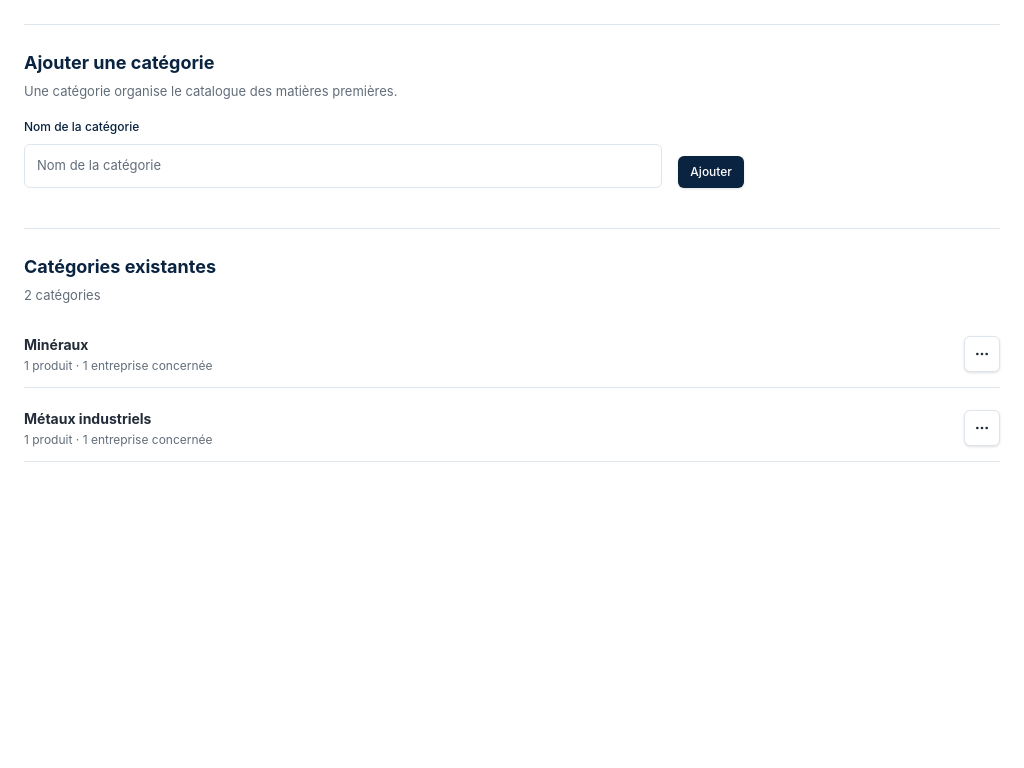
it: Écran Catégories › refuse de supprimer une catégorie encore utilisée par des produits
The image size is (1024, 768).
Click the button named "Actions pour Minéraux".
click(982, 354)  # box [964,336,1000,372]
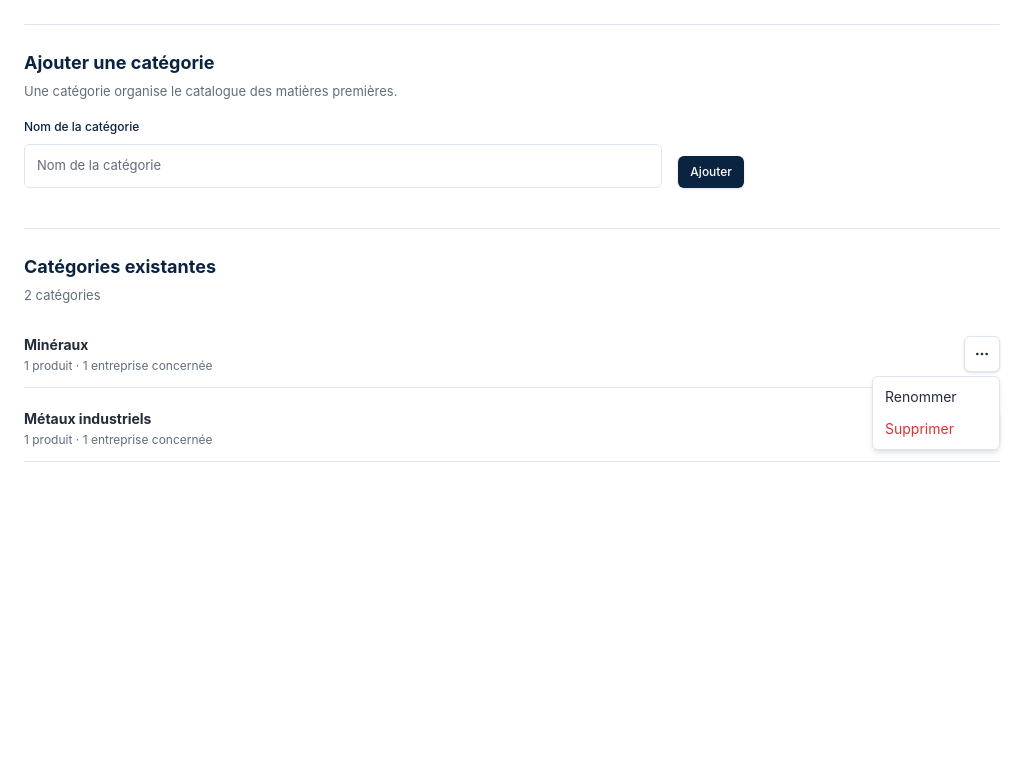
Click the menu item "Supprimer".
click(919, 428)  # box [885,420,954,437]
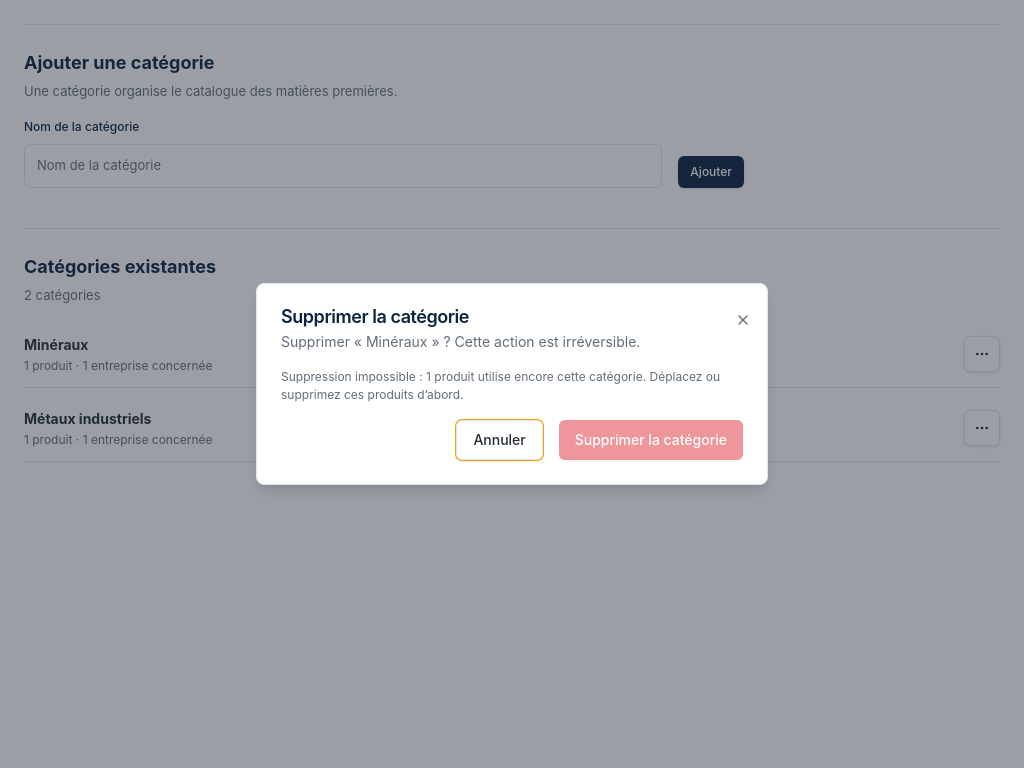
Now the text "Suppression impossible" is shown, box [281,369,426,384]
Now the text "1 produit utilise encore cette catégorie" is shown, box [281,368,743,404]
Now the button "Supprimer la catégorie" is disabled, box [559,420,743,460]
